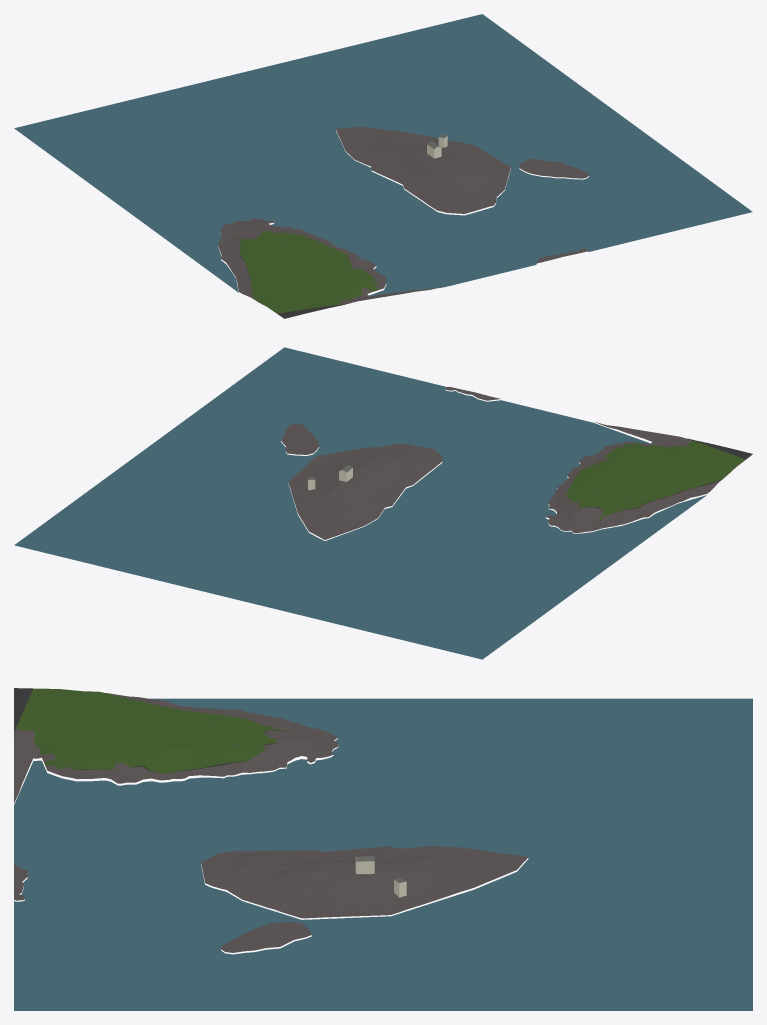
3 renders of one model, top to bottom at view 1: azimuth 30°, elevation 25°; view 2: azimuth 150°, elevation 25°; view 3: azimuth 270°, elevation 25°, orthographic. The views are drawn at different scales.
Parts seen in each view (by area): view 1: c_m20_p01; view 2: c_m20_p01; view 3: c_m20_p01.
Part boxes in pixels (bbox=[...]): c_m20_p01: bbox=[14, 14, 752, 318]; c_m20_p01: bbox=[14, 347, 752, 659]; c_m20_p01: bbox=[14, 688, 752, 1010].
Bounding box in the file's own units: 128 × 5.3 × 128.
